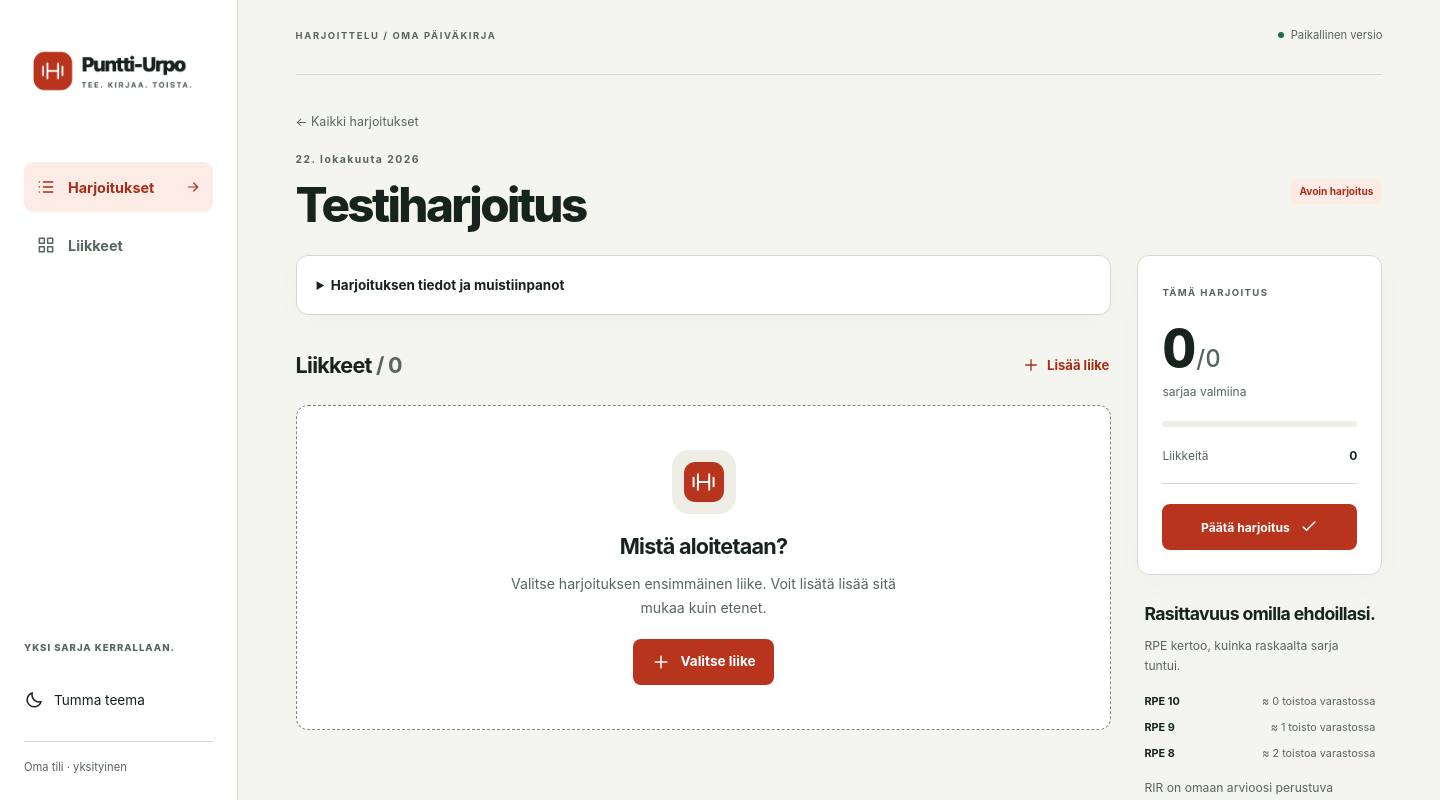
it: keeps the persisted logged exercise visible when creating its first set fails
Expected: the heading "Mistä aloitetaan?" is shown, left=620, top=533, right=787, bottom=559
Click the button "Valitse liike": (704, 662) left=633, top=639, right=774, bottom=685
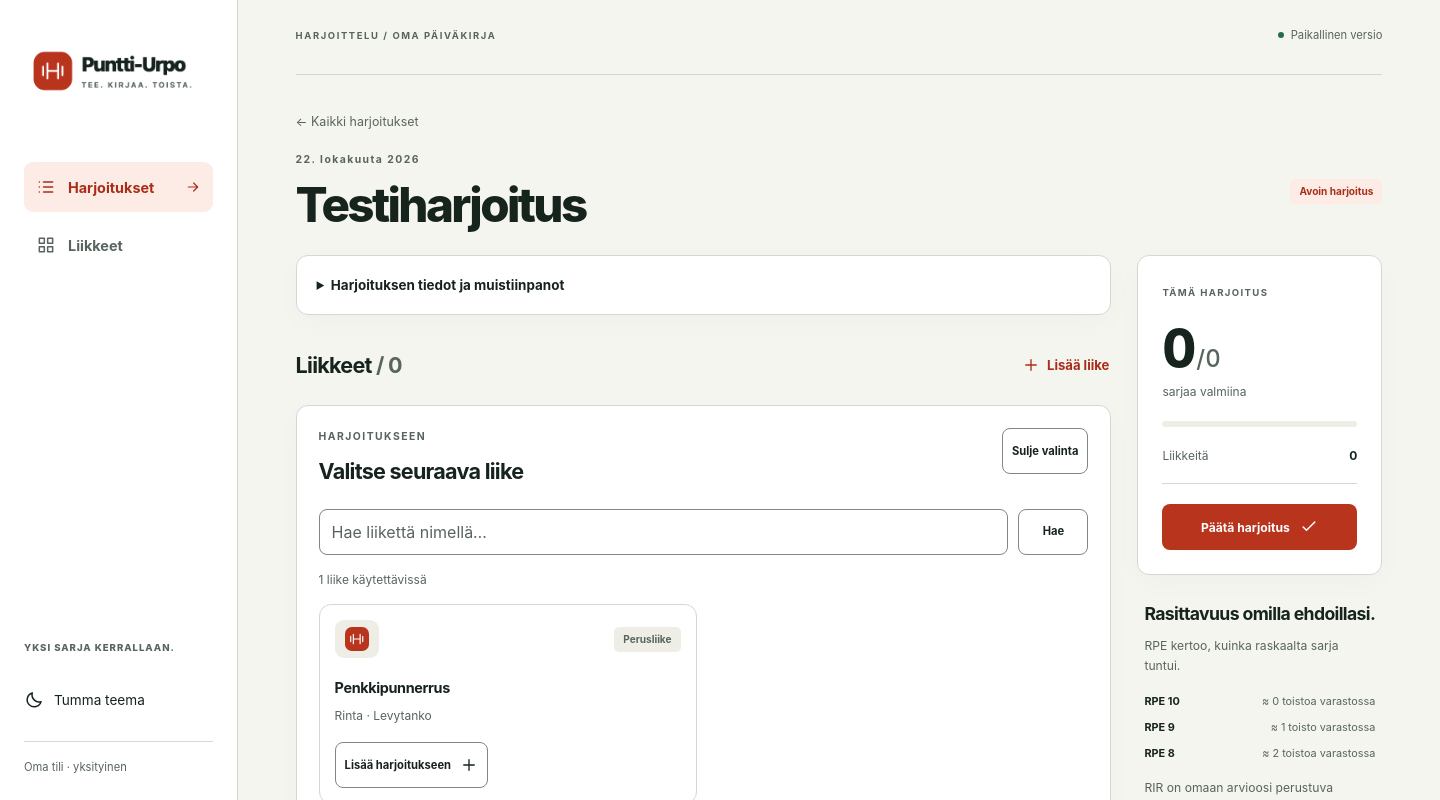
Result: the heading "Penkkipunnerrus" is shown at left=335, top=679, right=450, bottom=696
Click the button "Lisää harjoitukseen": (411, 765) left=335, top=742, right=488, bottom=788
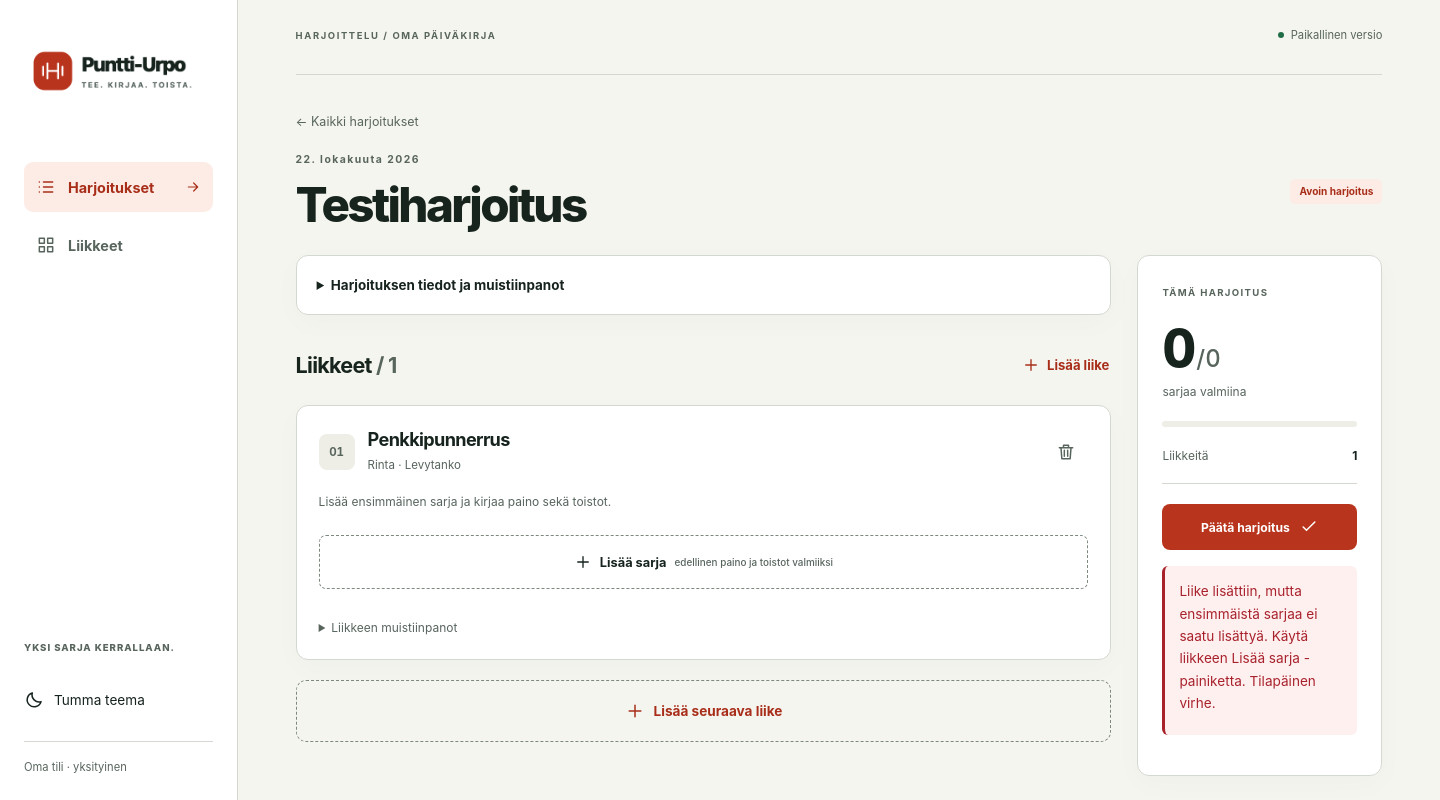
Result: the heading "Penkkipunnerrus" is shown at left=368, top=428, right=510, bottom=452
Result: the message shows "Liike lisättiin" at left=1179, top=583, right=1318, bottom=711
Result: the button "Lisää sarja edellinen paino ja toistot valmiiksi" is shown at left=319, top=535, right=1088, bottom=589
